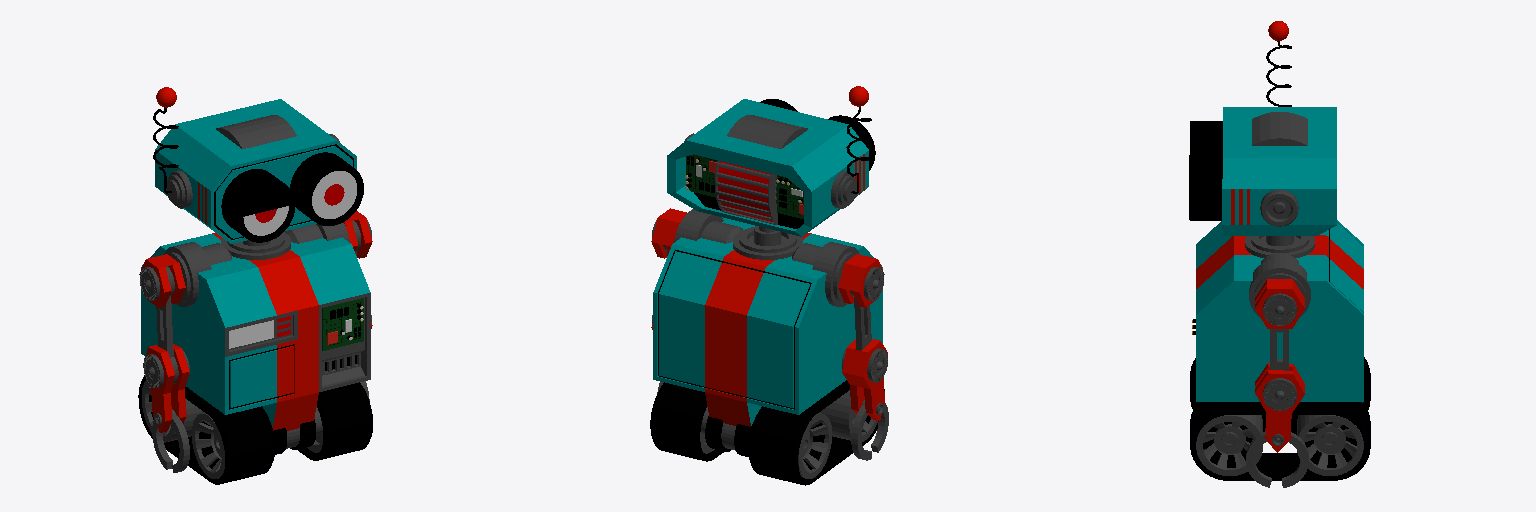
The model's file is RobotModel.obj.
The picture shows the model from 3 angles: view 1: azimuth 30°, elevation 25°; view 2: azimuth 150°, elevation 25°; view 3: azimuth 270°, elevation 25°; orthographic projection.
Parts seen in each view (by area): view 1: Cube.001, Cylinder.002_Cylinder.003, BezierCircle, BezierCircle.001, Cylinder.008_Cylinder.011, Cylinder.006_Cylinder.008, Cylinder.012, Cylinder.005_Cylinder.001, Cube.002, Cylinder.013_Cylinder.014, BezierCurve, Cylinder.015_Cylinder.013 (+1 smaller); view 2: Cube.001, Cylinder.002_Cylinder.003, BezierCircle, BezierCircle.001, Cylinder.006_Cylinder.008, Cylinder.008_Cylinder.011, Cylinder.013_Cylinder.014, Cylinder.005_Cylinder.001, Cube.002, Cylinder.012, Cylinder.015_Cylinder.013, BezierCurve (+1 smaller); view 3: Cube.001, Cylinder.002_Cylinder.003, BezierCircle.001, Cylinder.022, Cylinder.021, Cylinder.017, Cylinder.016, Cylinder.015_Cylinder.013, BezierCurve, Cylinder.020, Cylinder.019, BezierCircle.
Boxes of the visible parts, x1=… form: Cube.001: x1=141, y1=223, x2=370, y2=430; Cylinder.002_Cylinder.003: x1=155, y1=99, x2=363, y2=243; BezierCircle: x1=138, y1=375, x2=274, y2=484; BezierCircle.001: x1=298, y1=382, x2=372, y2=460; Cylinder.008_Cylinder.011: x1=140, y1=266, x2=189, y2=387; Cylinder.006_Cylinder.008: x1=146, y1=344, x2=189, y2=432; Cylinder.012: x1=192, y1=413, x2=224, y2=478; Cylinder.005_Cylinder.001: x1=139, y1=254, x2=185, y2=307; Cube.002: x1=273, y1=419, x2=315, y2=454; Cylinder.013_Cylinder.014: x1=142, y1=380, x2=204, y2=442; BezierCurve: x1=153, y1=87, x2=178, y2=193; Cylinder.015_Cylinder.013: x1=343, y1=211, x2=372, y2=258; Cube.001: x1=653, y1=209, x2=882, y2=426; Cylinder.002_Cylinder.003: x1=667, y1=99, x2=875, y2=236; BezierCircle: x1=748, y1=380, x2=884, y2=485; BezierCircle.001: x1=650, y1=382, x2=724, y2=461; Cylinder.006_Cylinder.008: x1=842, y1=339, x2=887, y2=420; Cylinder.008_Cylinder.011: x1=842, y1=267, x2=887, y2=382; Cylinder.013_Cylinder.014: x1=798, y1=413, x2=831, y2=478; Cylinder.005_Cylinder.001: x1=838, y1=254, x2=884, y2=307; Cube.002: x1=705, y1=416, x2=752, y2=456; Cylinder.012: x1=819, y1=390, x2=877, y2=441; Cylinder.015_Cylinder.013: x1=651, y1=208, x2=686, y2=258; BezierCurve: x1=846, y1=86, x2=871, y2=193; Cube.001: x1=1192, y1=220, x2=1363, y2=401; Cylinder.002_Cylinder.003: x1=1189, y1=107, x2=1336, y2=235; BezierCircle.001: x1=1190, y1=402, x2=1370, y2=480; Cylinder.022: x1=1297, y1=415, x2=1363, y2=475; Cylinder.021: x1=1196, y1=415, x2=1262, y2=475; Cylinder.017: x1=1263, y1=293, x2=1296, y2=410; Cylinder.016: x1=1255, y1=363, x2=1304, y2=452; Cylinder.015_Cylinder.013: x1=1255, y1=279, x2=1304, y2=328; BezierCurve: x1=1266, y1=21, x2=1291, y2=106; Cylinder.020: x1=1282, y1=432, x2=1308, y2=487; Cylinder.019: x1=1246, y1=431, x2=1271, y2=487; BezierCircle: x1=1190, y1=357, x2=1370, y2=409.
Size of the model in its own units: 3.04 by 5.01 by 2.16.